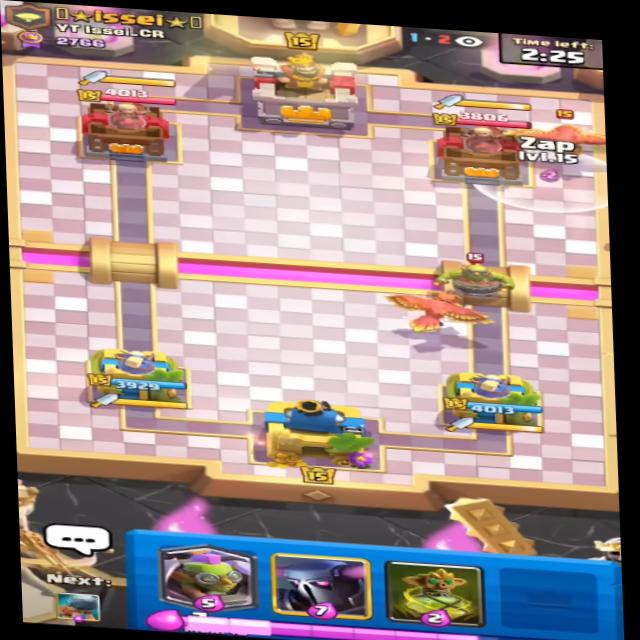Goblindemolisher: (430, 246, 519, 298)
Pheonix: (506, 101, 621, 158)
